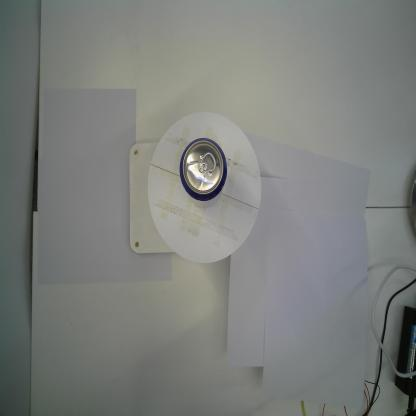Alcohol: (177, 134, 229, 206)
